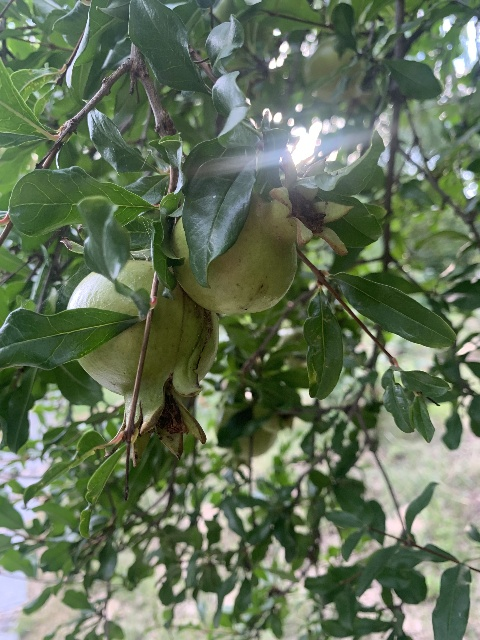mid-growth: (66, 259, 219, 466), (173, 144, 353, 315), (304, 41, 377, 119), (216, 406, 277, 471)
